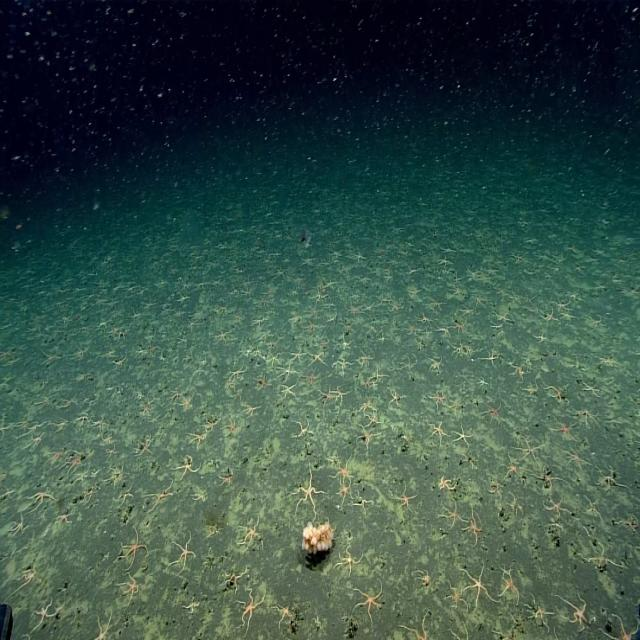brittle-stars: (294, 460, 321, 520), (236, 591, 266, 634), (354, 582, 383, 618), (463, 566, 490, 604), (119, 529, 147, 565), (168, 534, 194, 570), (560, 593, 588, 626), (338, 540, 362, 578), (604, 612, 635, 640), (528, 595, 551, 631), (117, 570, 141, 604), (32, 598, 59, 628), (150, 479, 173, 512), (240, 516, 261, 548), (447, 581, 467, 614), (221, 566, 246, 591), (520, 438, 544, 464), (464, 508, 483, 540), (94, 610, 114, 640), (500, 572, 520, 602), (451, 422, 474, 448), (545, 383, 570, 406), (175, 456, 201, 478), (394, 484, 416, 510), (566, 446, 588, 472), (442, 500, 462, 528), (595, 467, 620, 489), (427, 418, 447, 445), (31, 484, 53, 507), (544, 495, 566, 518), (553, 419, 575, 441), (272, 600, 292, 624), (482, 398, 502, 422), (68, 448, 86, 474), (577, 407, 599, 428), (108, 461, 125, 486), (334, 459, 352, 482), (502, 456, 520, 479), (581, 379, 601, 399), (358, 427, 376, 449), (241, 402, 263, 420), (135, 438, 153, 460), (279, 362, 298, 382), (229, 360, 248, 380), (331, 385, 349, 406), (356, 347, 374, 368), (337, 480, 352, 505), (387, 388, 404, 410), (222, 414, 238, 437), (56, 510, 74, 530), (427, 388, 445, 408), (13, 512, 27, 537), (47, 448, 66, 466), (438, 474, 457, 492), (279, 382, 297, 401), (82, 484, 99, 504), (320, 384, 335, 406), (482, 347, 498, 367), (333, 356, 351, 373), (303, 368, 319, 387), (488, 480, 503, 500), (202, 416, 220, 432), (308, 350, 326, 366), (76, 409, 92, 427), (92, 416, 108, 434), (553, 296, 571, 312), (178, 393, 194, 410), (188, 432, 204, 448), (494, 311, 511, 326), (366, 409, 380, 427), (510, 362, 524, 380), (359, 399, 374, 415), (323, 276, 338, 292), (290, 346, 303, 364), (452, 319, 467, 334), (267, 350, 281, 366), (428, 356, 442, 372), (438, 252, 452, 267), (257, 374, 270, 390), (218, 327, 229, 343), (543, 311, 557, 323), (192, 492, 206, 504), (363, 374, 373, 390), (103, 432, 112, 445)
